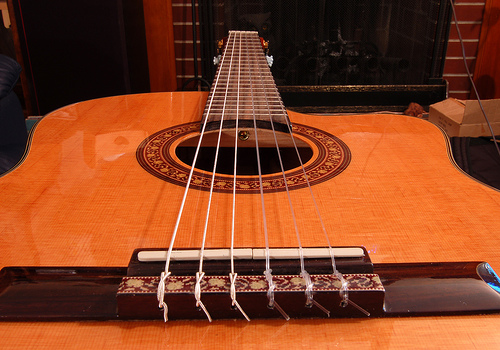guitar: (1, 25, 500, 350)
